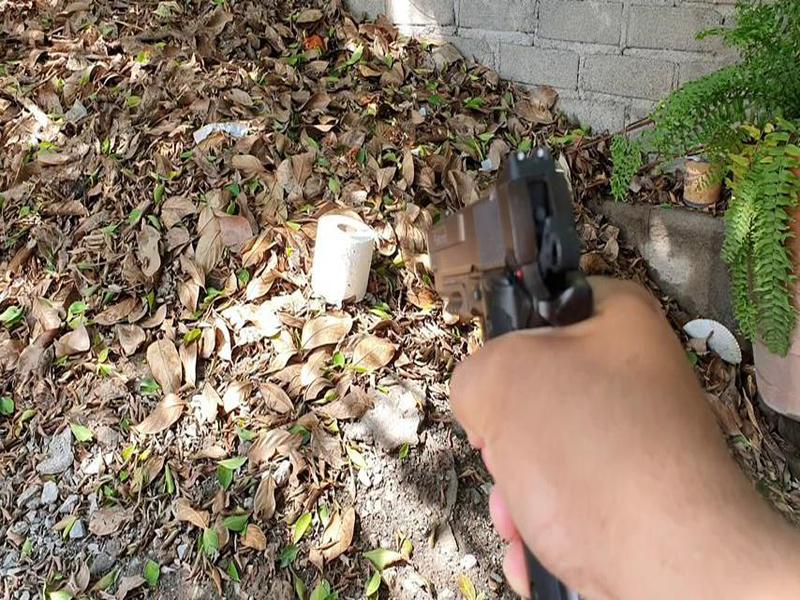Pistola: (397, 137, 643, 395)
